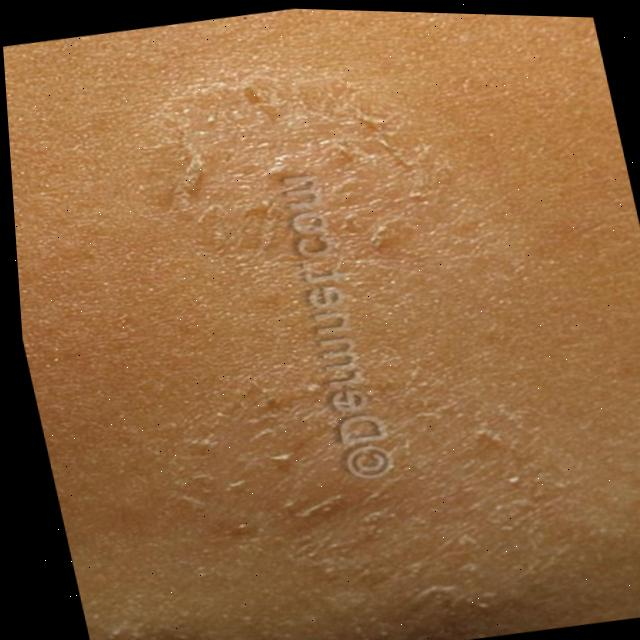Eczema: (150, 38, 504, 307), (202, 365, 561, 626)
